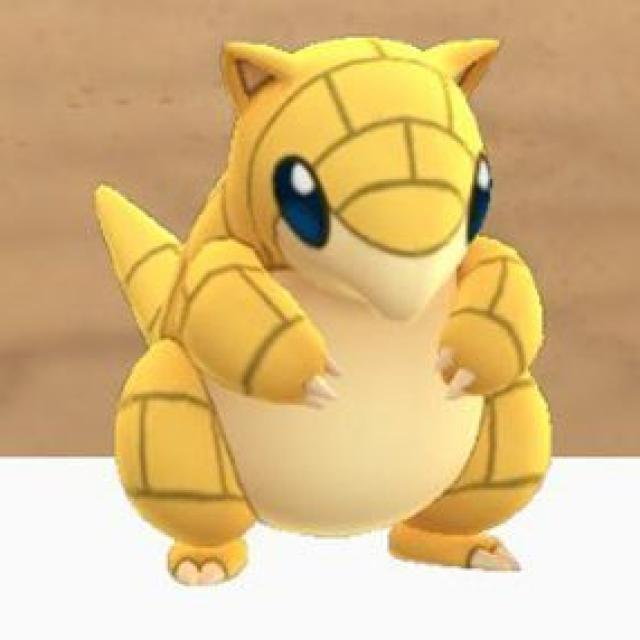Sandshrew: (114, 23, 556, 582)
